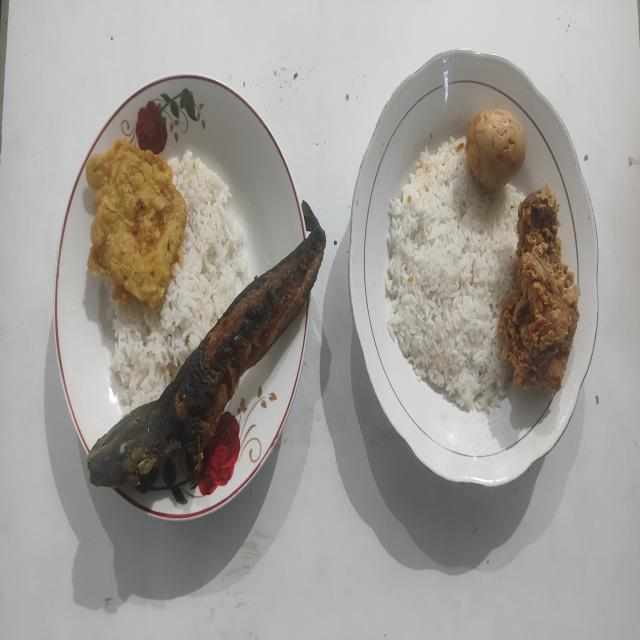nasi_putih: (384, 138, 524, 412), (110, 150, 254, 413)
